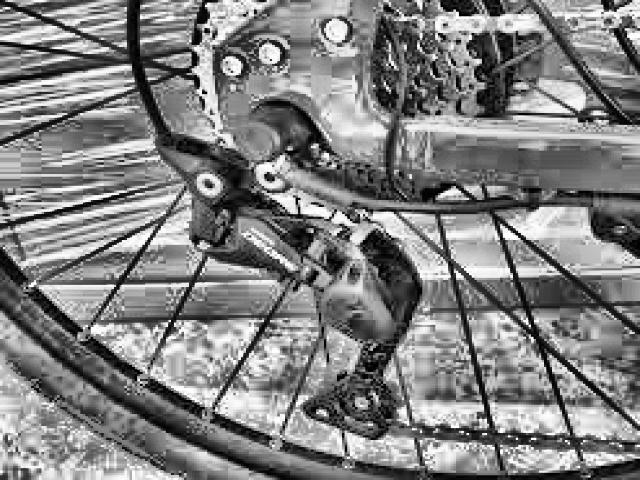rear_derailleur: (133, 121, 426, 441)
